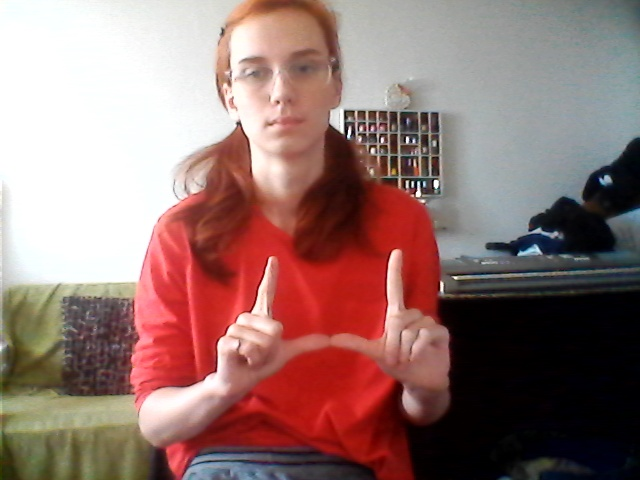u: (205, 243, 458, 402)
